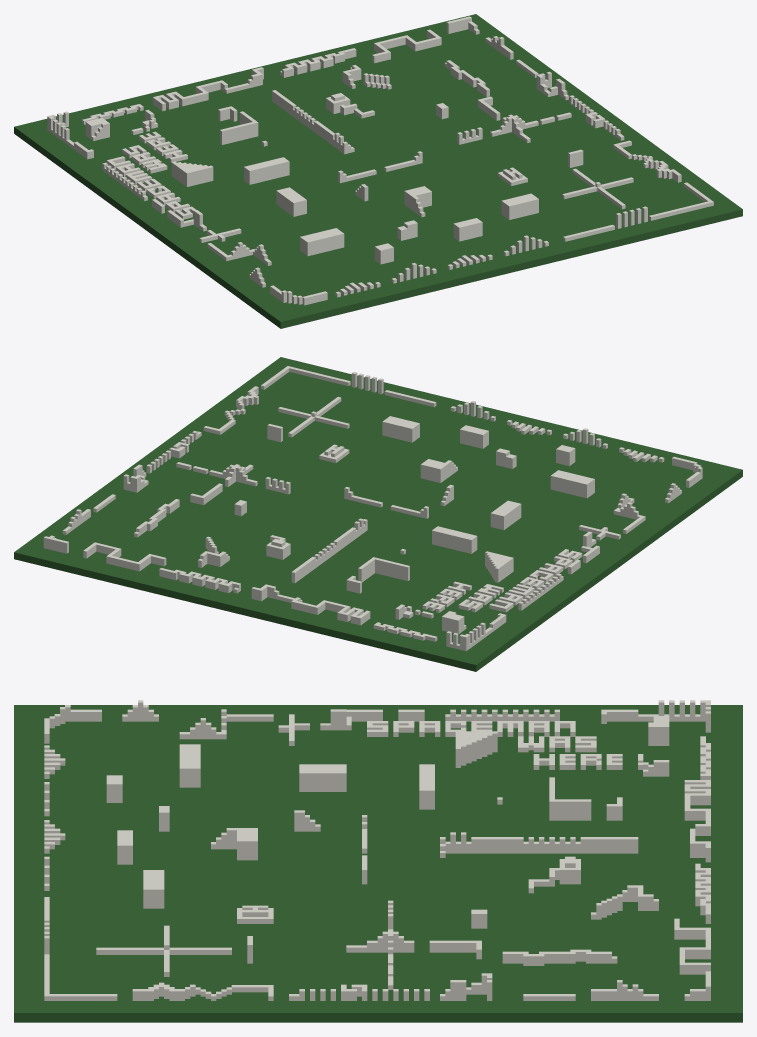
The picture shows the model from 3 angles, top to bottom: view 1: azimuth 30°, elevation 25°; view 2: azimuth 150°, elevation 25°; view 3: azimuth 270°, elevation 25°; orthographic projection. The views are drawn at different scales.
Visible parts, largest first — view 1: GeodeZombie 2.001, GeodeZombie 2; view 2: GeodeZombie 2.001, GeodeZombie 2; view 3: GeodeZombie 2.001, GeodeZombie 2.
Part boxes in pixels (x1,y1,x2,y2): GeodeZombie 2.001: (14,14,742,328); GeodeZombie 2: (47,16,713,305); GeodeZombie 2.001: (14,357,742,671); GeodeZombie 2: (43,366,702,651); GeodeZombie 2.001: (14,705,742,1022); GeodeZombie 2: (44,700,710,1000).
Size of the model in its own units: 15.4 by 0.6598 by 15.4.
